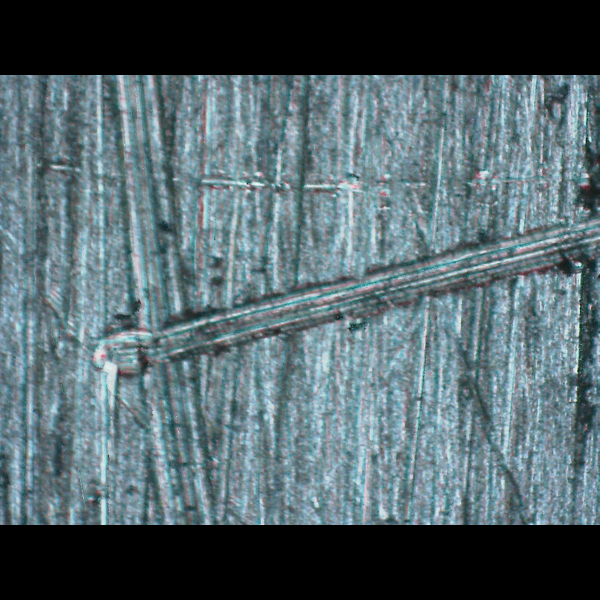d: (81, 178, 600, 389)
